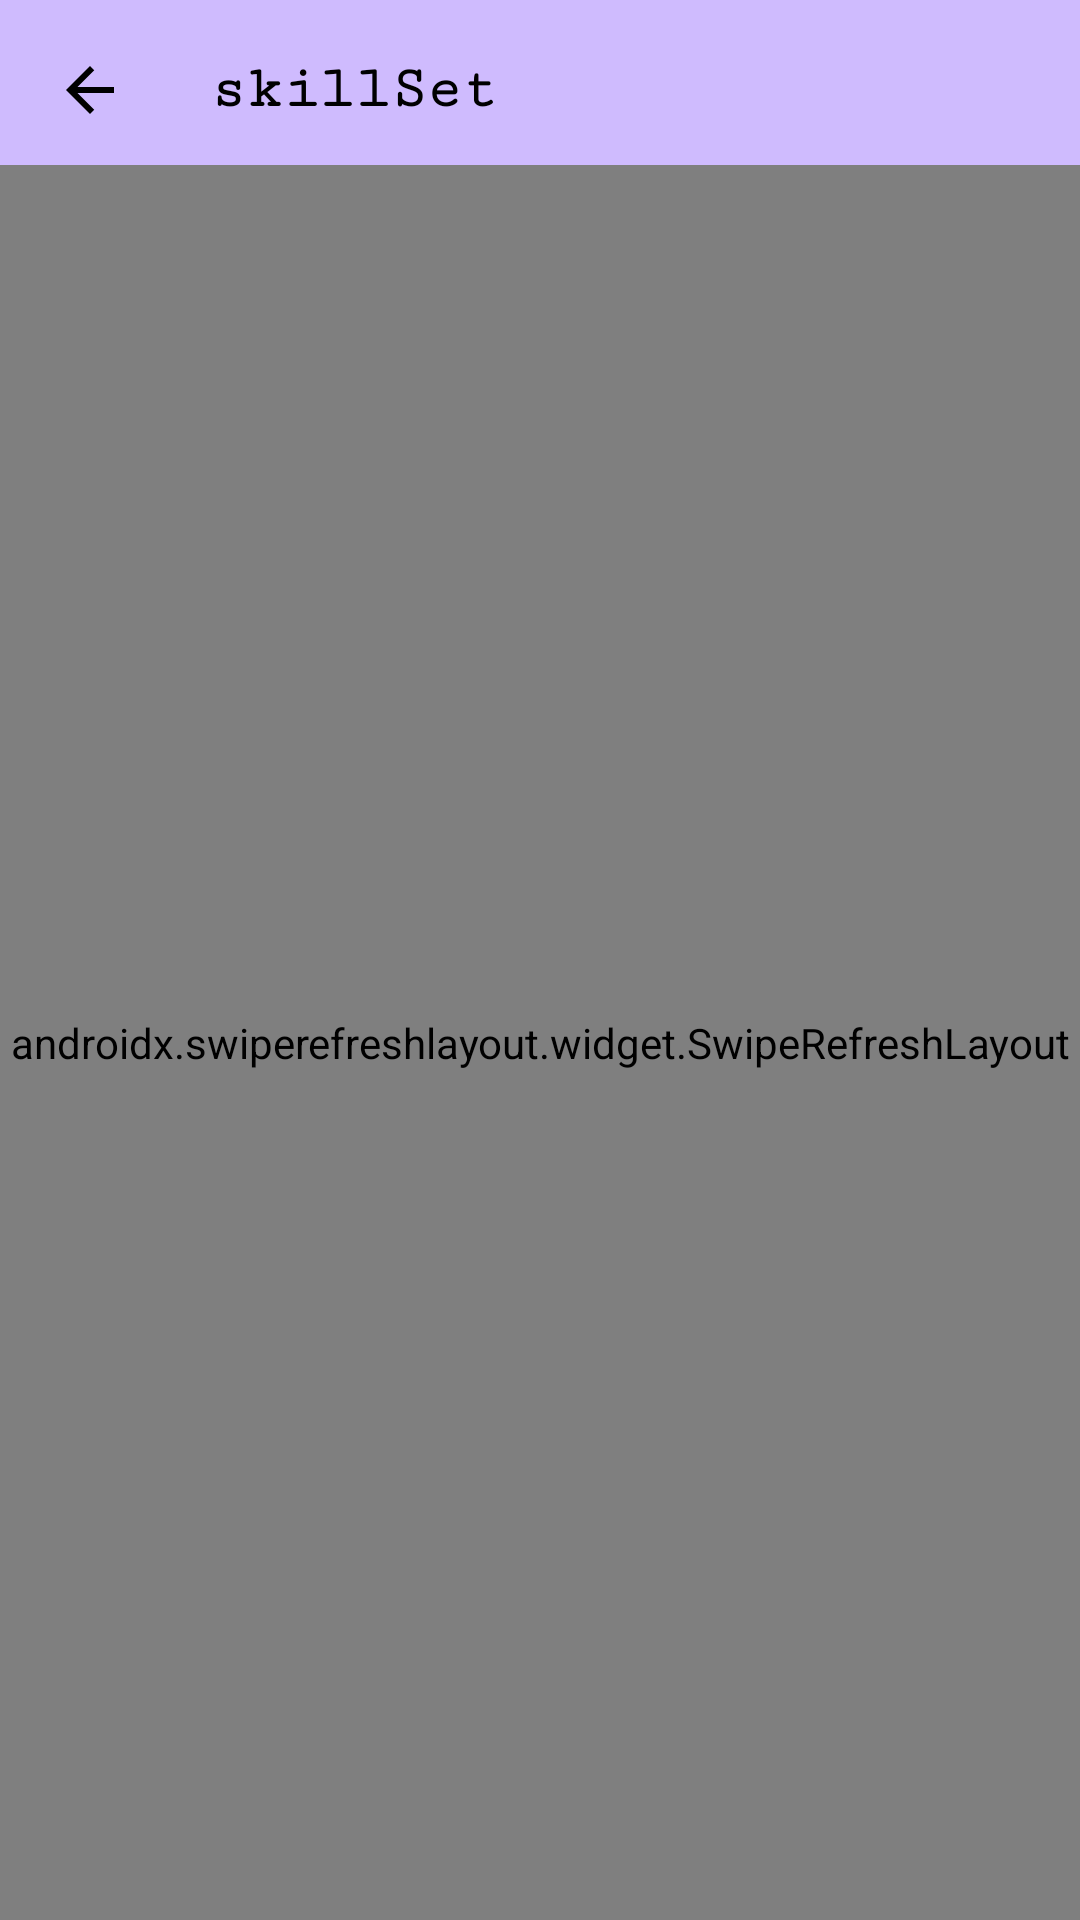

Named icons in this screenshot (1080*1920) and their bounding boxes, (x1, y1, x2, y2):
file back: (66, 66, 114, 114)
